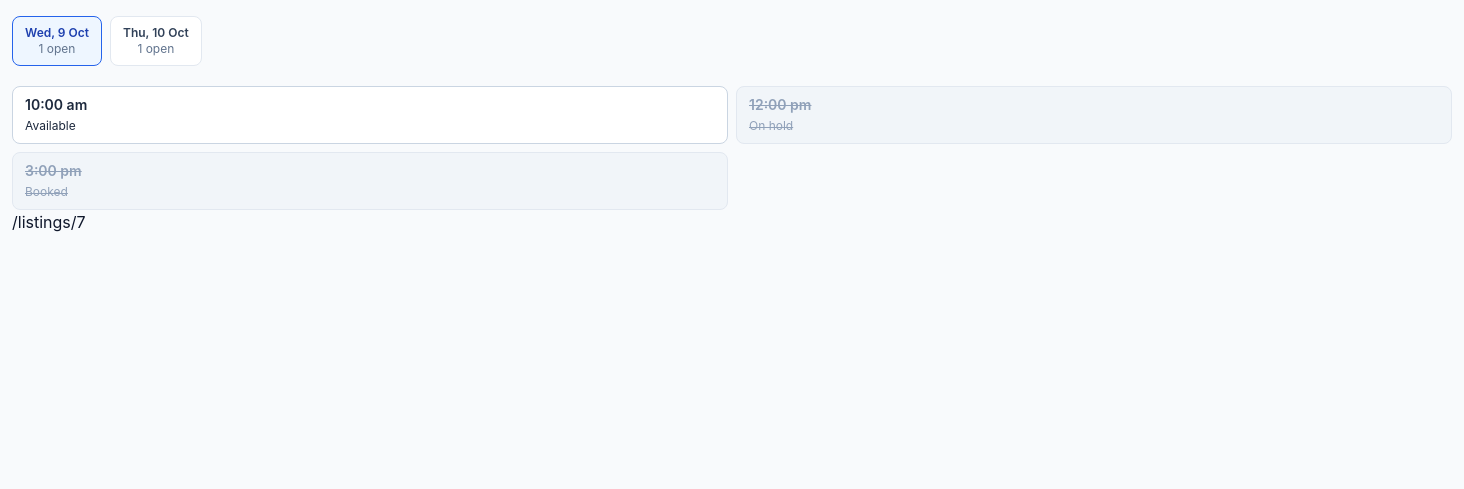
<SlotPicker> › confirms the held slot with the note and shows success
Click the button with aria-label "10:00 am, available" at (56, 104), box [12,86,728,144]
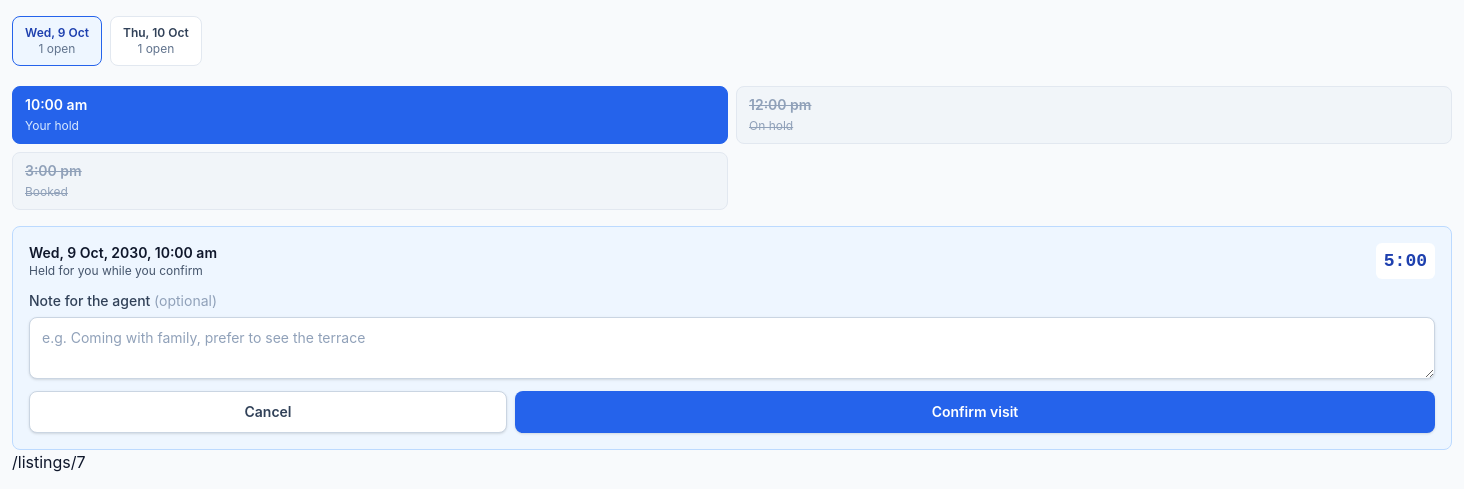
Type "  Bringing family  " into the text box labelled "Note for the agent (optional)" at (732, 348), box [29,317,1435,379]
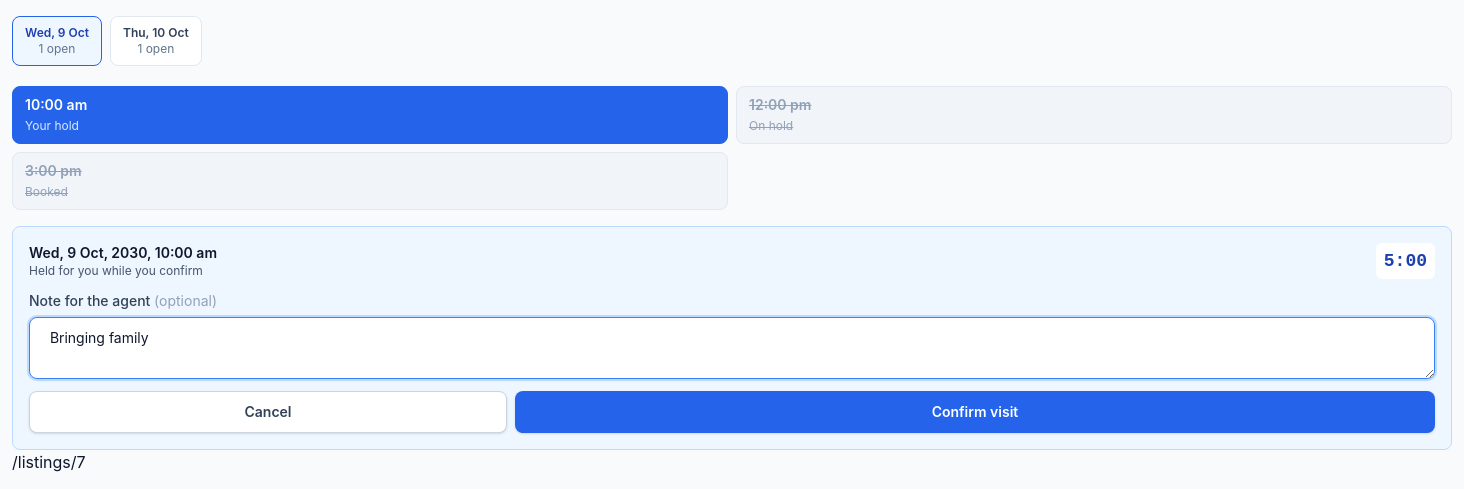
Click the button "Confirm visit" at (975, 412), box [515,391,1435,433]
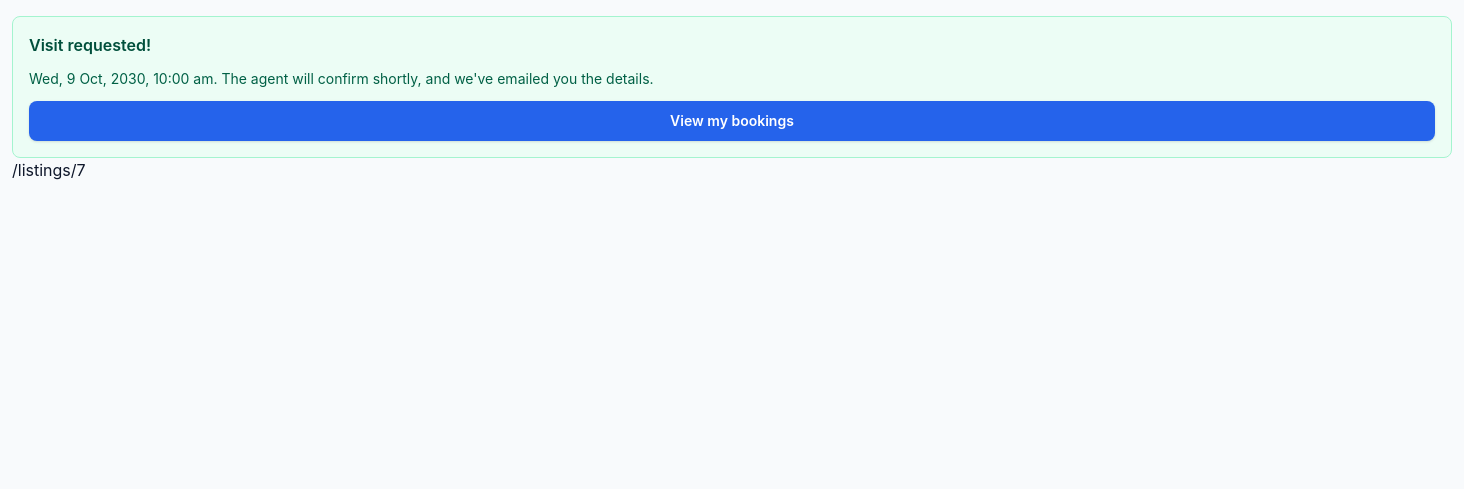
Expected: the text "Visit requested!" is shown, [29,35,151,55]
